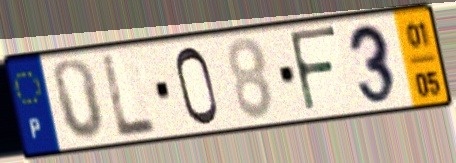0: (51, 57, 107, 145), (173, 43, 220, 128)
3: (347, 19, 406, 108)
8: (225, 33, 278, 124)
F: (285, 24, 341, 116)
L: (99, 51, 162, 141)
